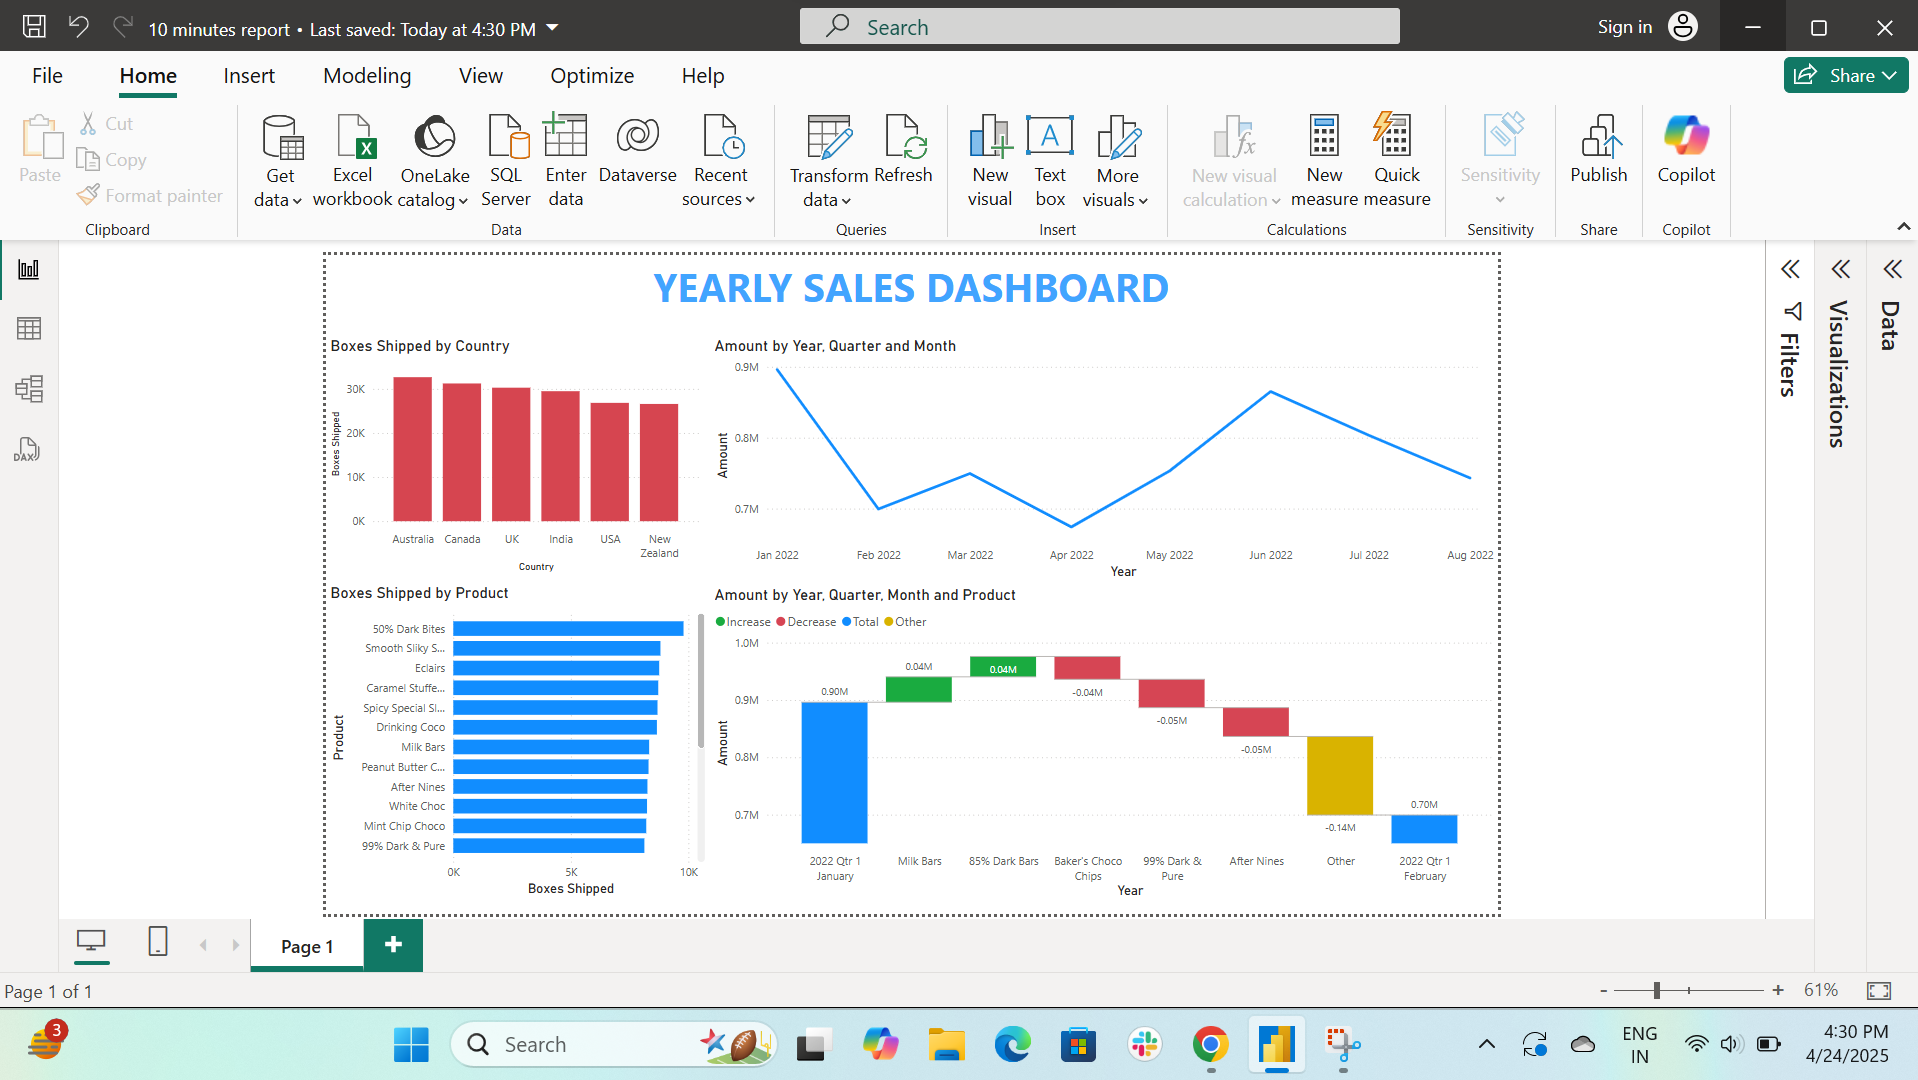

The dashboard page shown, as its layout file describes it:
{"tool":"powerbi","page":{"name":"Page 1","canvas":[1280,720],"ordinal":0},"visuals":[{"type":"columnChart","fields":{"Category":["data.Country"],"Y":["Sum(data.Boxes Shipped)"]},"box":[0,89.1,412.9,262.3],"z":0},{"type":"barChart","fields":{"Category":["data.Product"],"Y":["Sum(data.Boxes Shipped)"]},"box":[0,359.5,419.4,346.5],"z":1000},{"type":"lineChart","fields":{"Category":["data.Date.Variation.Date Hierarchy.Year","data.Date.Variation.Date Hierarchy.Quarter","data.Date.Variation.Date Hierarchy.Month","data.Date.Variation.Date Hierarchy.Day"],"Y":["Sum(data.Amount)"]},"box":[419.4,89.1,861.4,270.4],"z":2000},{"type":"waterfallChart","fields":{"Category":["data.Date.Variation.Date Hierarchy.Year","data.Date.Variation.Date Hierarchy.Quarter","data.Date.Variation.Date Hierarchy.Month"],"Breakdown":["data.Product"],"Y":["Sum(data.Amount)"]},"box":[420,360,860,346],"z":3000},{"type":"textbox","box":[0,0,1279.2,89.1],"z":3001}]}

Visuals, with their boxes on the page's 1280x720 design canvas (x1, y1, x2, y2). These are canvas units, not pixel positions in the 1918x1080 screenshot, which may show the page scaled, cropped or inside an application window:
columnChart - data.Country x Sum(data.Boxes Shipped): l=0, t=89, r=413, b=351
barChart - data.Product x Sum(data.Boxes Shipped): l=0, t=360, r=419, b=706
lineChart - data.Date.Variation.Date Hierarchy.Year x data.Date.Variation.Date Hierarchy.Quarter: l=419, t=89, r=1281, b=360
waterfallChart - data.Date.Variation.Date Hierarchy.Year x data.Date.Variation.Date Hierarchy.Quarter: l=420, t=360, r=1280, b=706
textbox: l=0, t=0, r=1279, b=89
